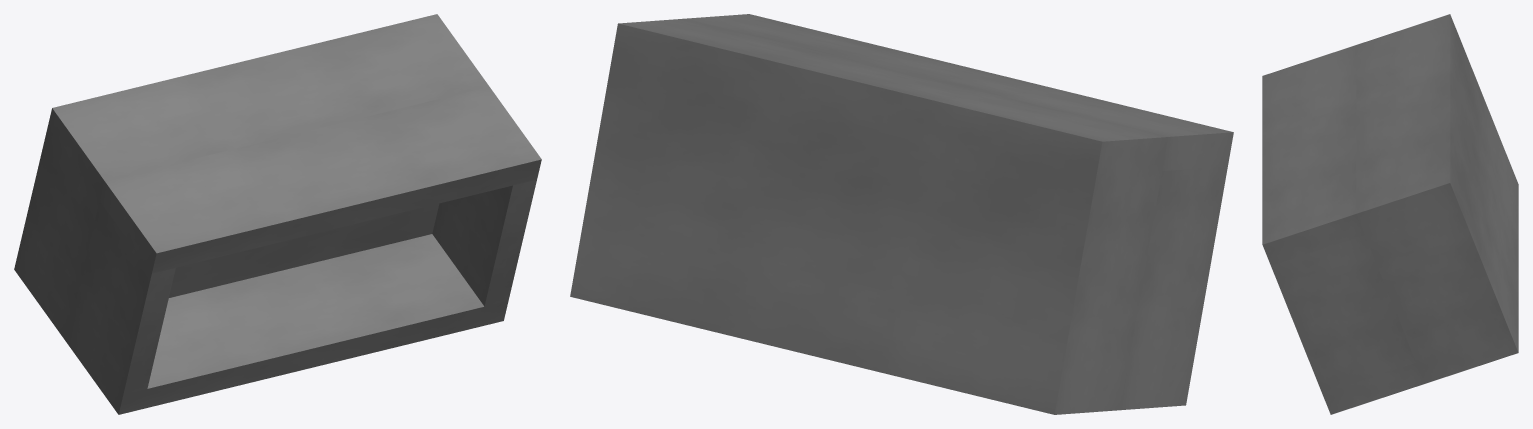
The model's file is dc_metro_arch_a6.obj.
3 views of the same model, side by side, from view 1: azimuth 30°, elevation 25°; view 2: azimuth 150°, elevation 25°; view 3: azimuth 270°, elevation 25° (orthographic). The views are drawn at different scales.
Parts seen in each view (by area): view 1: part6; view 2: part6; view 3: part6.
Part boxes in pixels (x1,y1,x2,y2): part6: (14, 14, 541, 414); part6: (570, 14, 1233, 414); part6: (1262, 14, 1518, 414).
Size of the model in its own units: 2 by 1.28 by 1.28.
1 material, 1 textured.
